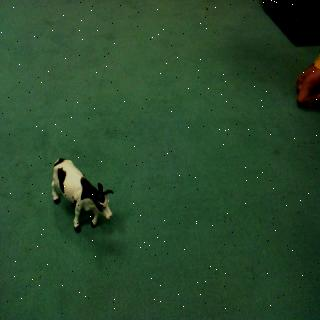cow: (50, 149, 116, 232)
